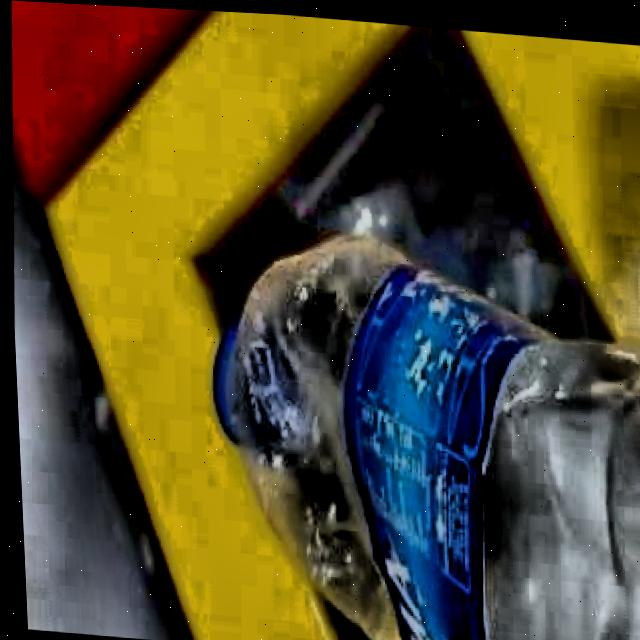plastic: (210, 230, 403, 640)
